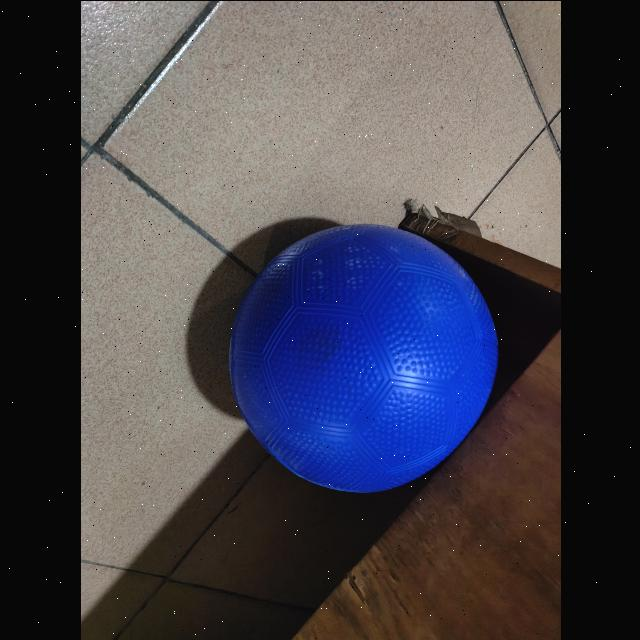B: (225, 223, 507, 495)
